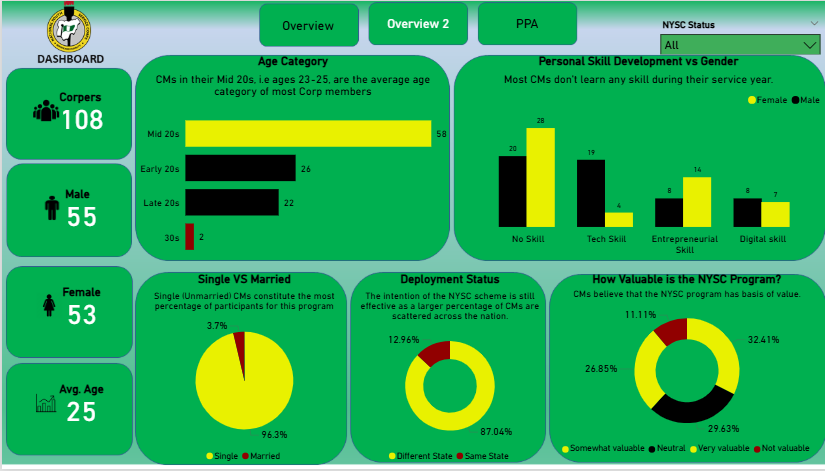

Layout of this report page (visuals, bound fields, positions):
{"tool":"powerbi","page":{"name":"Page 2","canvas":[1280,720],"ordinal":0},"visuals":[{"type":"barChart","title":"Age Category ","fields":{"Category":["Table1_3.Age Category"],"Y":["CountNonNull(Table1_3.State Code )"]},"box":[198.4,82.3,484.9,329.1],"z":0},{"type":"donutChart","title":"Deployment Status","fields":{"Category":["Table1_3.Deployment comparison"],"Y":["CountNonNull(Table1_3.State Code )"]},"box":[526,417.3,313,302.7],"z":1000},{"type":"clusteredColumnChart","title":"Personal Skill Development vs Gender","fields":{"Category":["Table1_3.If yes, pls specify the skill: (groups)"],"Y":["CountNonNull(Table1_3.State Code )"],"Series":["Table1_3.Gender"]},"box":[689.1,82.3,580.4,315.9],"z":2000},{"type":"cardVisual","fields":{"Data":["CountNonNull(Table1_3.State Code )","Max(Table1_3.Male)","Max(Table1_3.female)","Avg(Table1_3.Age estimate)"]},"box":[0,95.5,205.7,603.9],"z":3000},{"type":"slicer","title":"NYSC Status","fields":{"Values":["Table1_3.NYSC Status"]},"box":[1003.6,23.5,266,58.8],"z":4000},{"type":"donutChart","title":"How Valuable is the NYSC Program?","fields":{"Category":["Table1_3. NYSC Program Rating"],"Y":["CountNonNull(Table1_3.State Code )"]},"box":[839,417.3,430.5,292.4],"z":5000},{"type":"pieChart","title":"Single VS Married","fields":{"Category":["Table1_3.Marital status"],"Y":["CountNonNull(Table1_3.State Code )"]},"box":[205.7,417.3,333.6,302.7],"z":6000},{"type":"actionButton","title":"Overview","box":[392.3,0,157.2,73.5],"z":7000},{"type":"actionButton","title":"Overview","box":[733.2,0,148.4,67.6],"z":7500},{"type":"actionButton","title":"Overview","box":[564.2,0,151.3,67.6],"z":8000}]}

Visuals, with their boxes in screenshot pixels (x1, y1, x2, y2), scaled from the page's 1280x720 canvas onto the 825x471 screenshot:
"Age Category " barChart: (x1=128, y1=54, x2=440, y2=269)
"Deployment Status" donutChart: (x1=339, y1=273, x2=541, y2=470)
"Personal Skill Development vs Gender" clusteredColumnChart: (x1=444, y1=54, x2=818, y2=260)
cardVisual - CountNonNull(Table1_3.State Code ) x Max(Table1_3.Male): (x1=0, y1=62, x2=133, y2=458)
"NYSC Status" slicer: (x1=647, y1=15, x2=818, y2=54)
"How Valuable is the NYSC Program?" donutChart: (x1=541, y1=273, x2=818, y2=464)
"Single VS Married" pieChart: (x1=133, y1=273, x2=348, y2=470)
"Overview" actionButton: (x1=253, y1=0, x2=354, y2=48)
"Overview" actionButton: (x1=473, y1=0, x2=568, y2=44)
"Overview" actionButton: (x1=364, y1=0, x2=461, y2=44)
